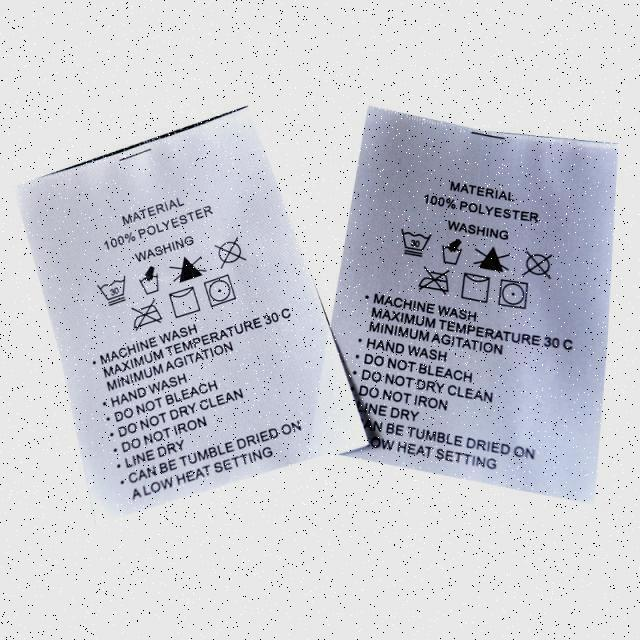30C: (397, 227, 435, 260), (99, 272, 129, 309)
DN_bleach: (475, 243, 511, 275), (174, 253, 206, 285)
DN_dry_clean: (214, 236, 249, 269), (522, 250, 558, 280)
DN_iron: (131, 297, 165, 330), (414, 269, 454, 295)
hand_wash: (438, 237, 466, 267), (139, 265, 160, 296)
line_dry: (168, 285, 203, 322), (459, 273, 496, 304)
tumble_dry_low: (203, 272, 239, 310), (495, 278, 533, 311)
